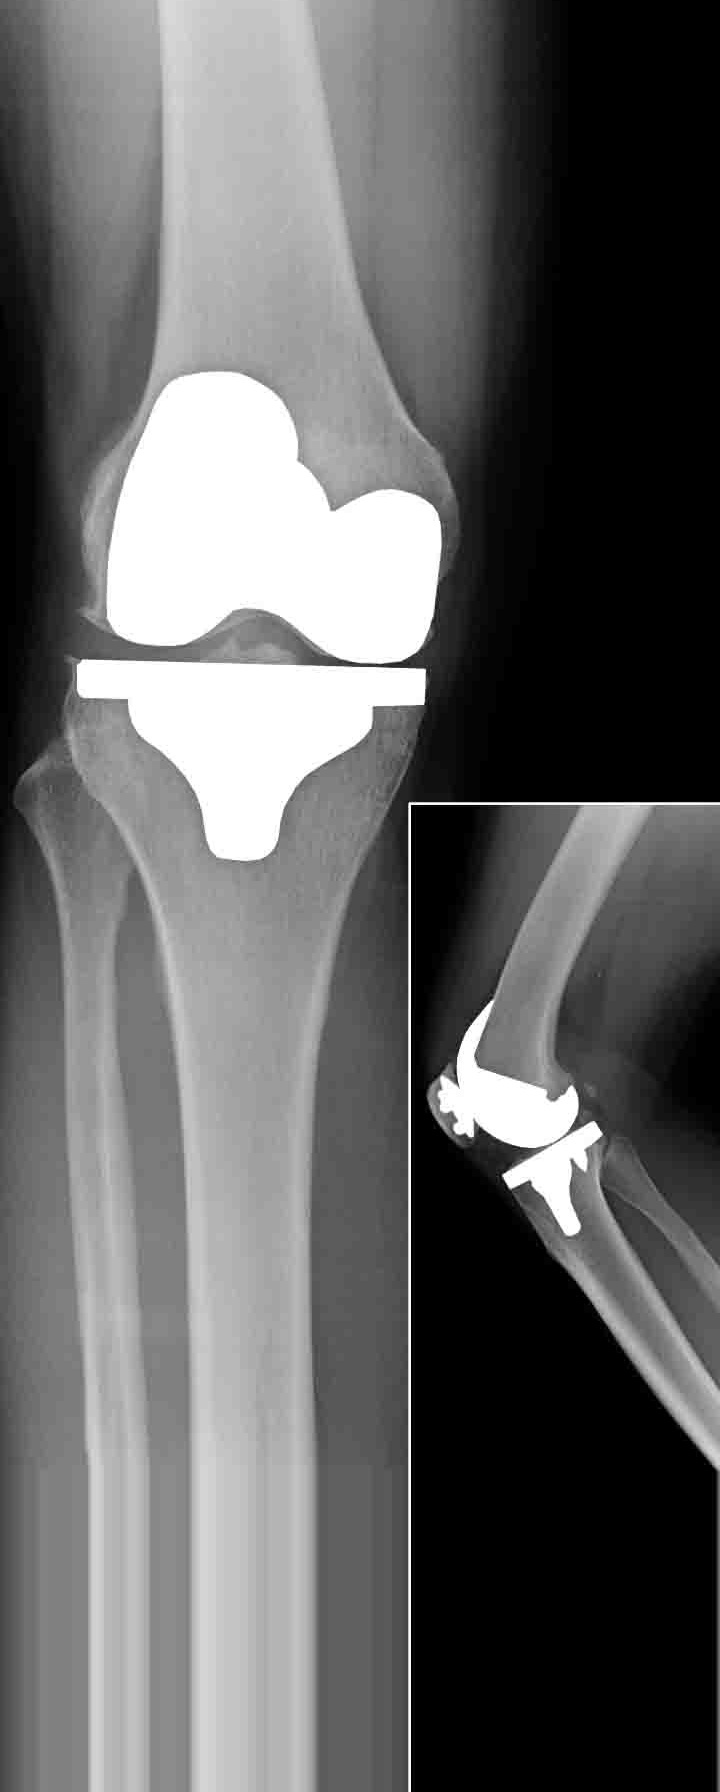Knee-TriathlonTritanium-Stryker: (72, 355, 440, 866), (437, 987, 607, 1240)
